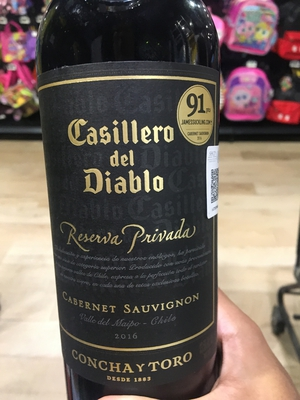casillero del diablo reserva privada cabernet sauvignon: (29, 6, 238, 400)
